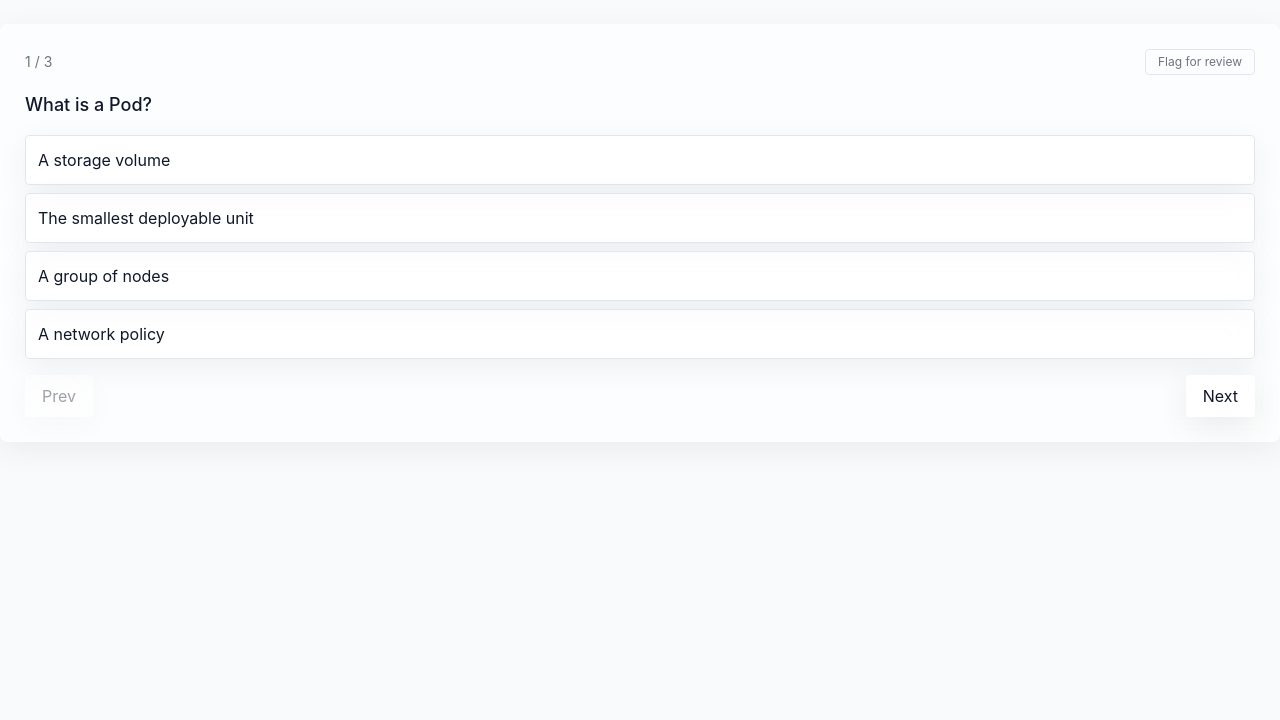
Test case: QuizBlock Phase 3 scaffolds › quiz_submit_shows_review — after submit, review screen shows per-question feedback
Note: Select answers and submit
Step 1. Click the button "The smallest deployable unit" → (146, 218), box x1=25 y1=193 x2=1255 y2=243
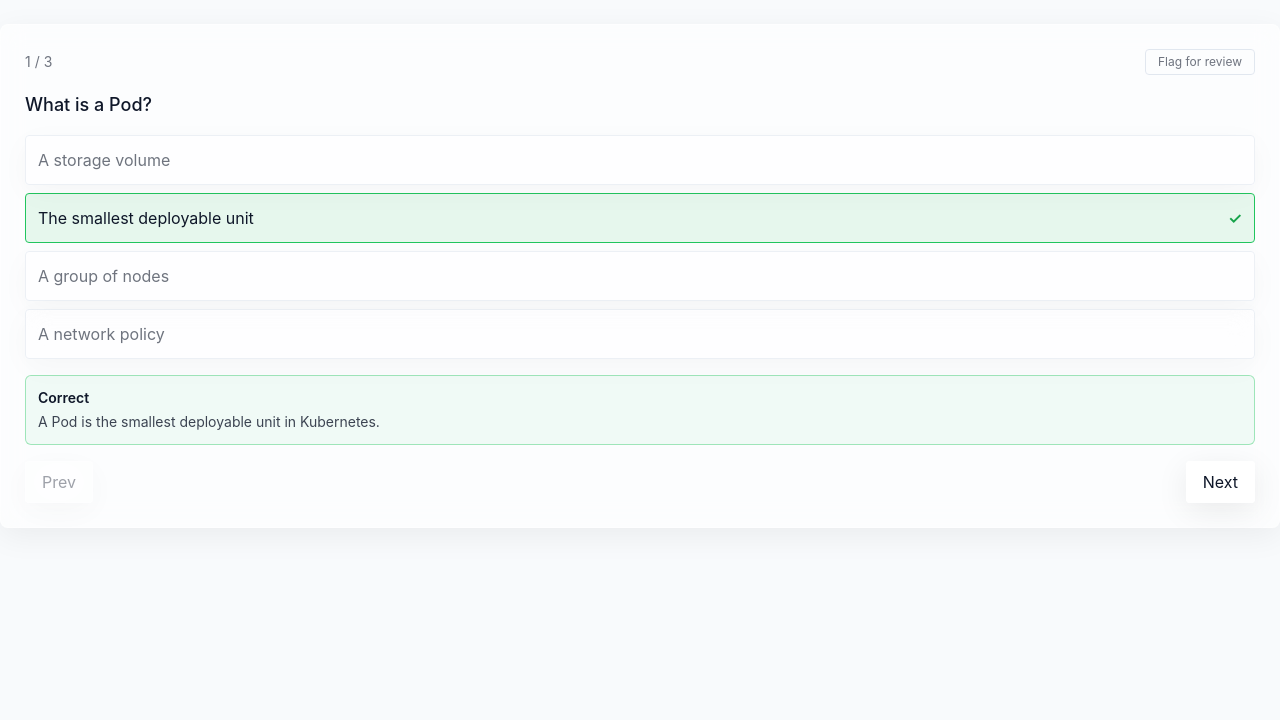
Step 2. Click the button "Next" → (1220, 482), box x1=1186 y1=461 x2=1255 y2=503
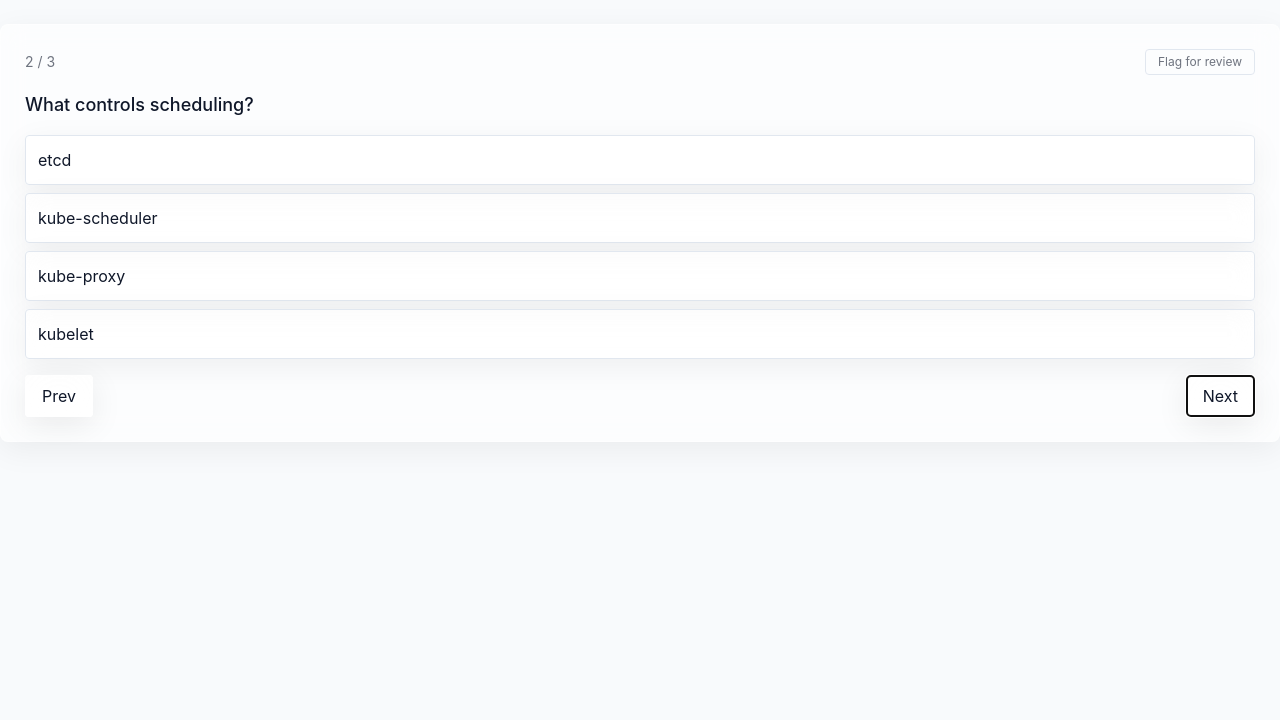
Step 3. Click the button "kube-scheduler" → (98, 218), box x1=25 y1=193 x2=1255 y2=243
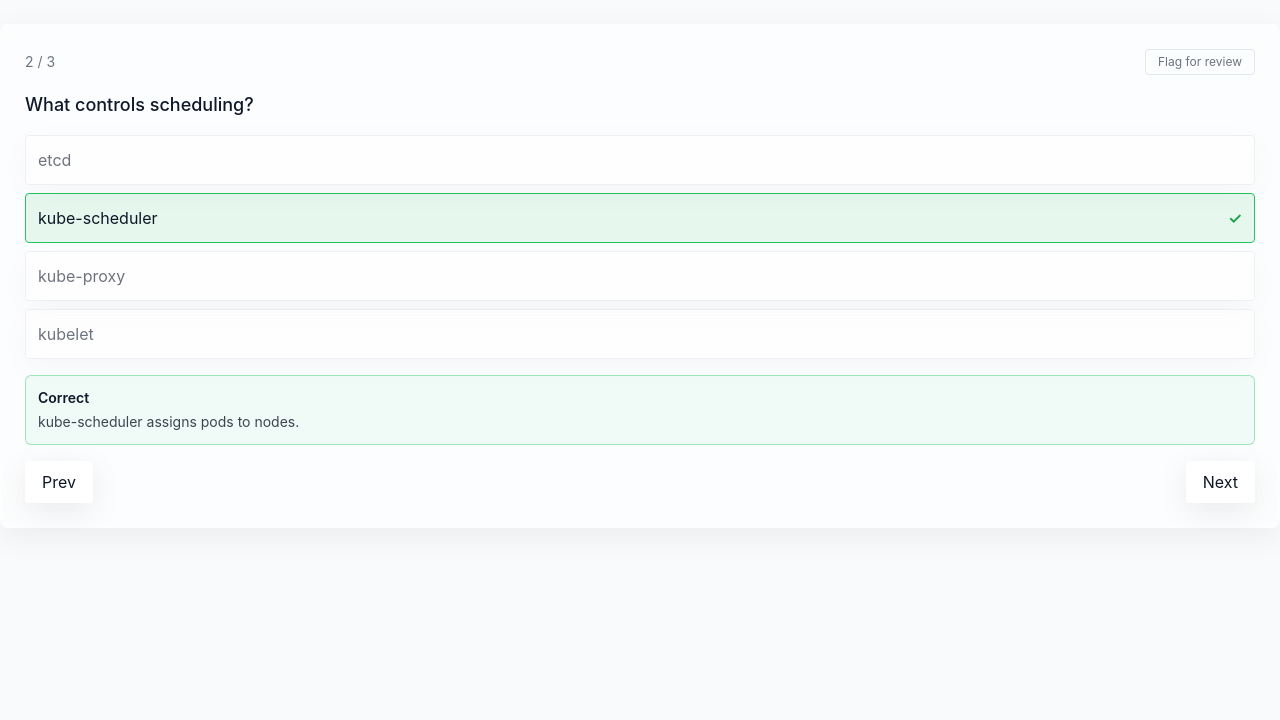
Step 4. Click the button "Next" → (1220, 482), box x1=1186 y1=461 x2=1255 y2=503
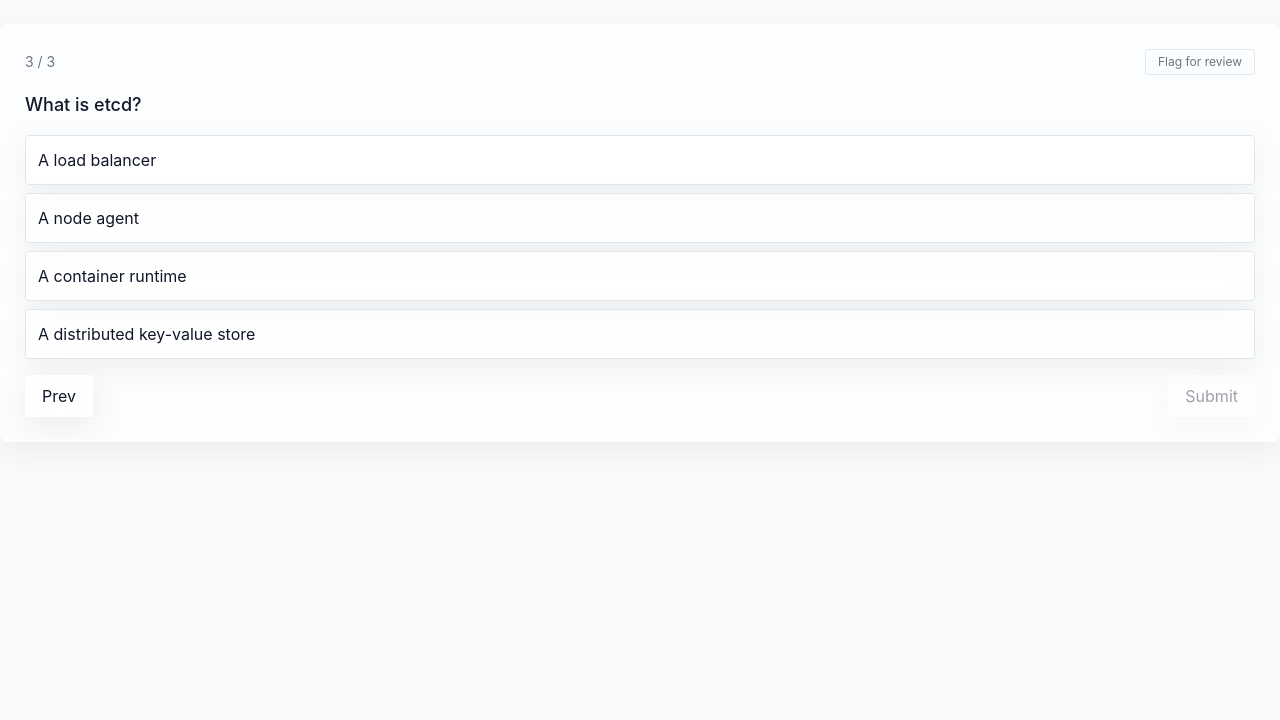
Step 5. Click the button "A distributed key-value store" → (147, 334), box x1=25 y1=309 x2=1255 y2=359
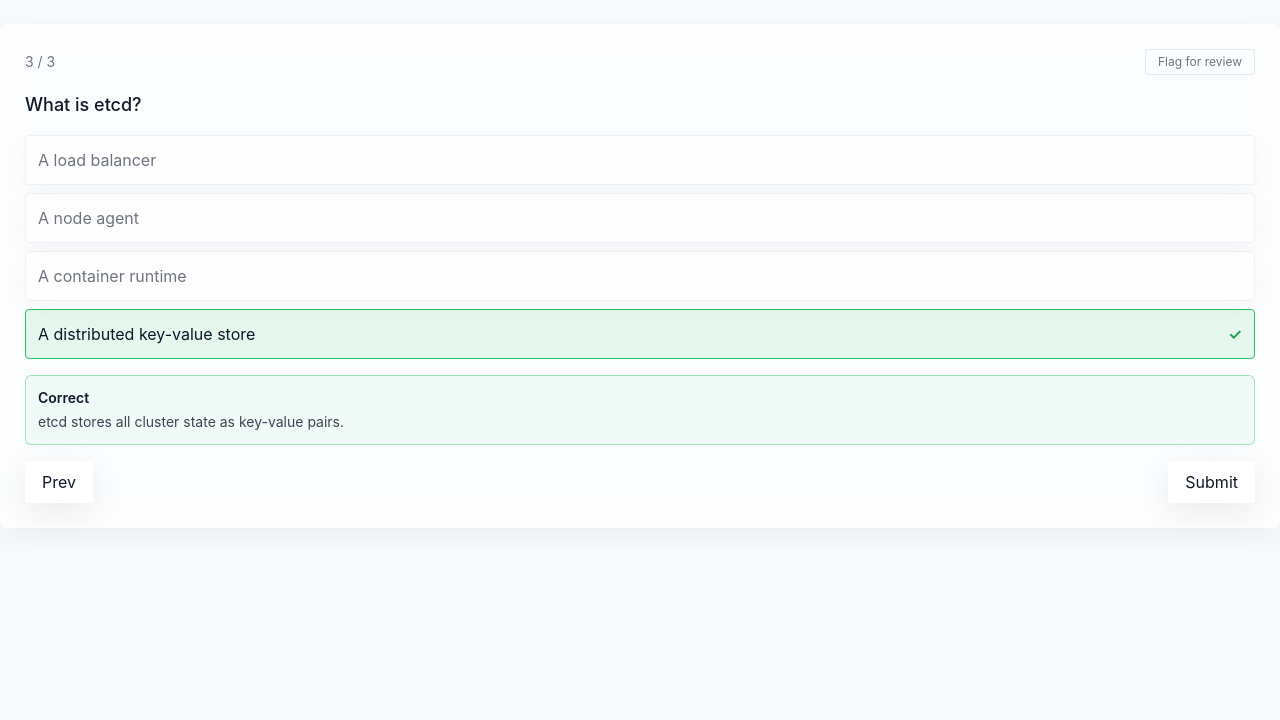
Step 6. Click the button "Submit" → (1212, 482), box x1=1168 y1=461 x2=1255 y2=503
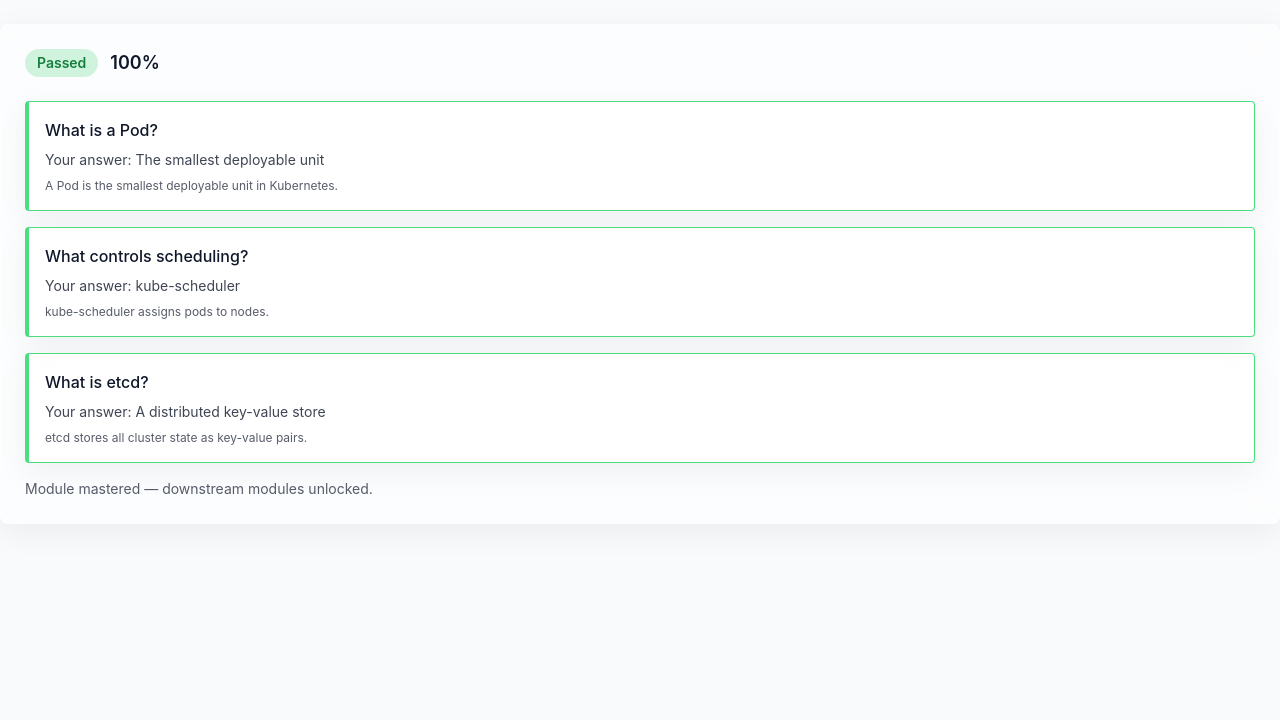
Expected: the element with test id "quiz-review" is shown
Expected: the text "A Pod is the smallest deployable unit in Kubernetes." is shown, x1=45 y1=178 x2=338 y2=193
